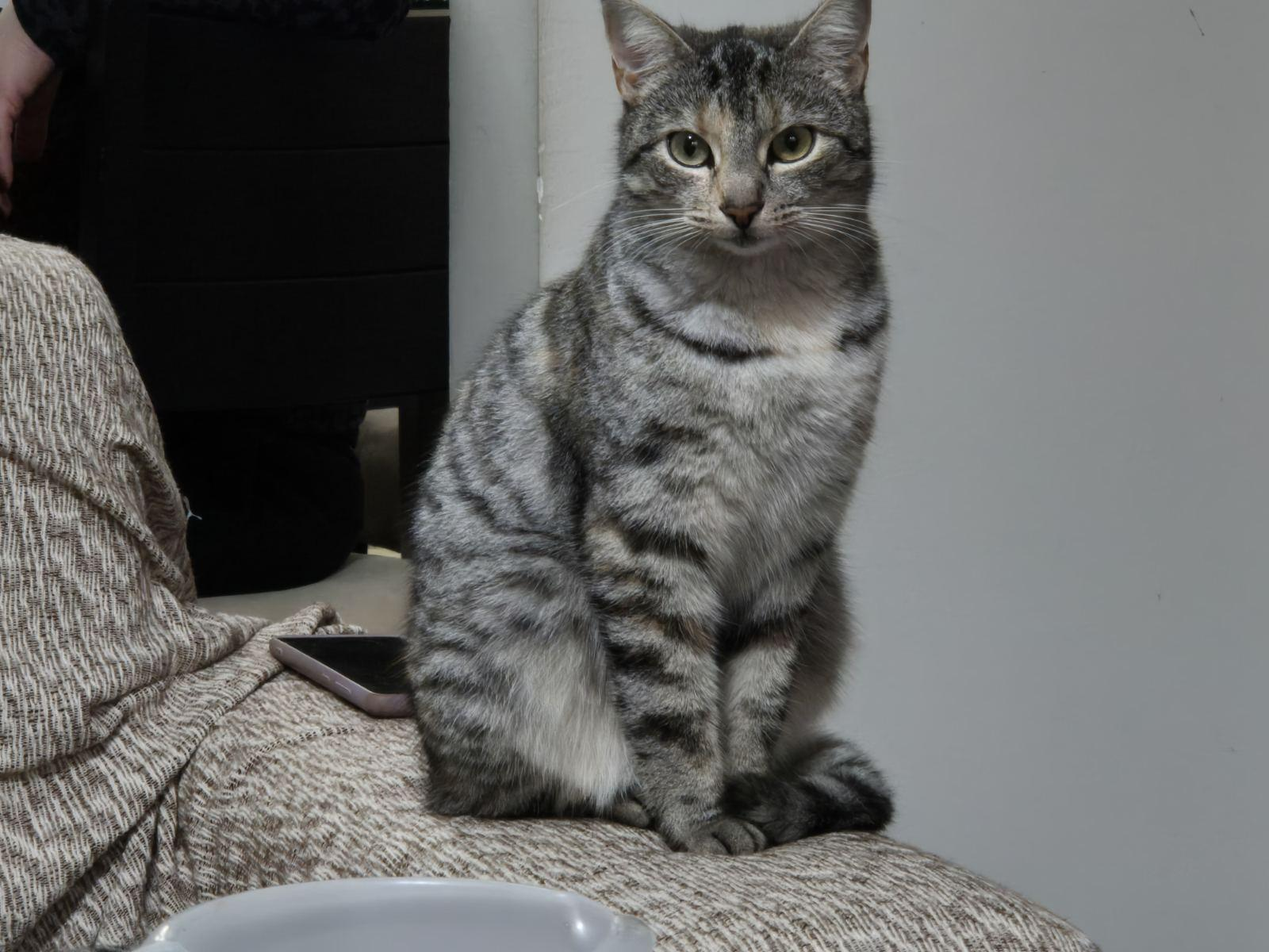macka: (403, 0, 896, 849)
